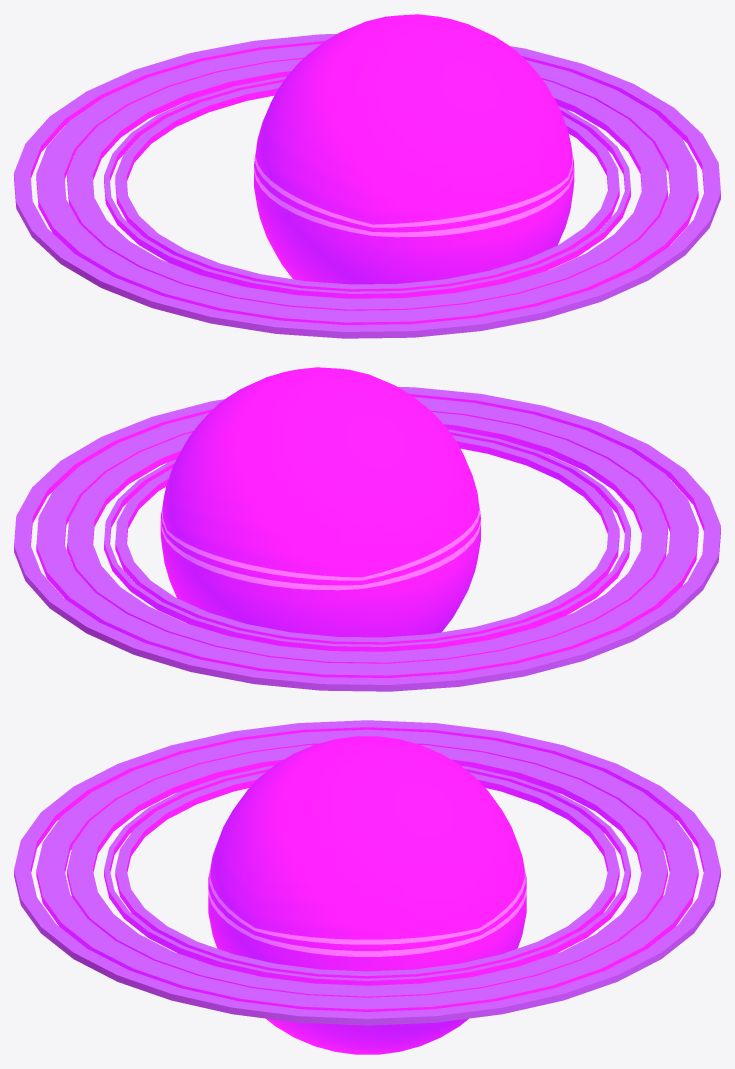
The model's file is SaturnBackground.fbx.
3 renders of one model, top to bottom at view 1: azimuth 30°, elevation 25°; view 2: azimuth 150°, elevation 25°; view 3: azimuth 270°, elevation 25°, orthographic.
Parts seen in each view (by area): view 1: rings of saturn, Planet; view 2: rings of saturn, Planet; view 3: rings of saturn, Planet.
Boxes of the visible parts, box(x1,y1,x2,y2) form: rings of saturn: box(14, 34, 720, 338); Planet: box(254, 14, 574, 284); rings of saturn: box(14, 387, 720, 691); Planet: box(160, 367, 480, 637); rings of saturn: box(14, 720, 720, 1025); Planet: box(208, 736, 526, 1054).
Size of the model in its own units: 1920 by 865 by 1920.
